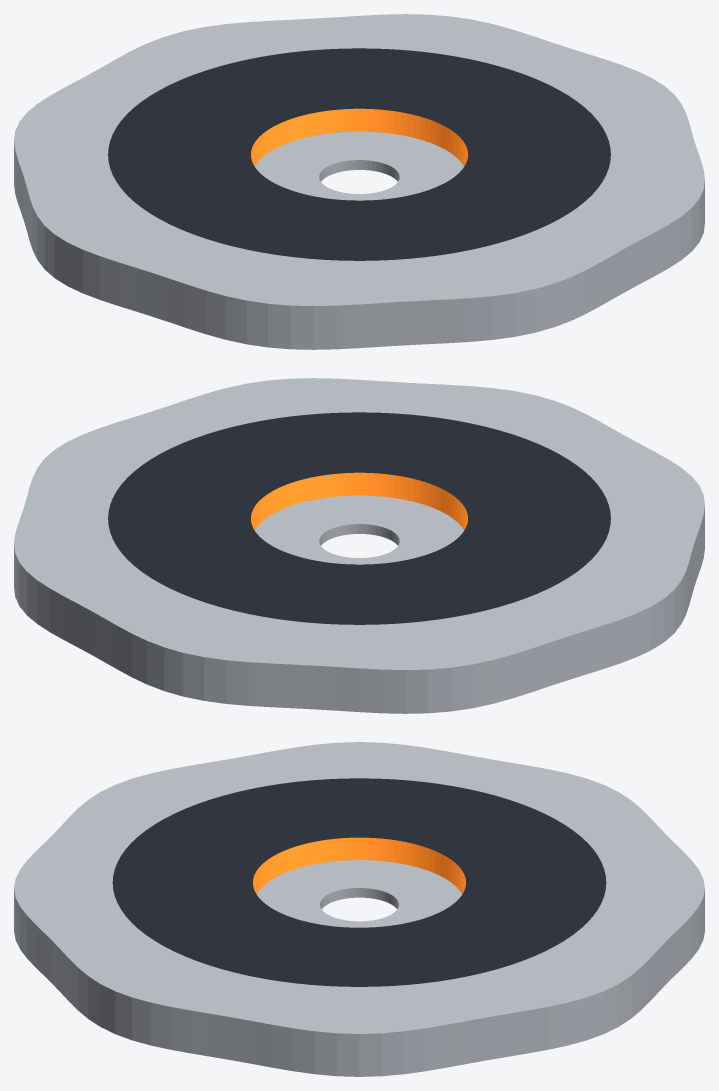
The model's file is blade_iron_bastion.glb.
3 views of the same model, one above another, from view 1: azimuth 30°, elevation 25°; view 2: azimuth 150°, elevation 25°; view 3: azimuth 270°, elevation 25° (orthographic).
Visible parts, largest first — view 1: GEO_blade_iron_bastion_BODY, GEO_blade_iron_bastion_NSS_V1_COLLAR; view 2: GEO_blade_iron_bastion_BODY, GEO_blade_iron_bastion_NSS_V1_COLLAR; view 3: GEO_blade_iron_bastion_BODY, GEO_blade_iron_bastion_NSS_V1_COLLAR.
Part boxes in pixels (box(x1,y1,x2,y2)): GEO_blade_iron_bastion_BODY: box(14, 14, 704, 349); GEO_blade_iron_bastion_NSS_V1_COLLAR: box(255, 131, 463, 200); GEO_blade_iron_bastion_BODY: box(14, 378, 704, 713); GEO_blade_iron_bastion_NSS_V1_COLLAR: box(255, 495, 463, 564); GEO_blade_iron_bastion_BODY: box(14, 742, 704, 1076); GEO_blade_iron_bastion_NSS_V1_COLLAR: box(257, 860, 461, 927).
Bounding box in the file's own units: 0.07 × 0.0054 × 0.07.
